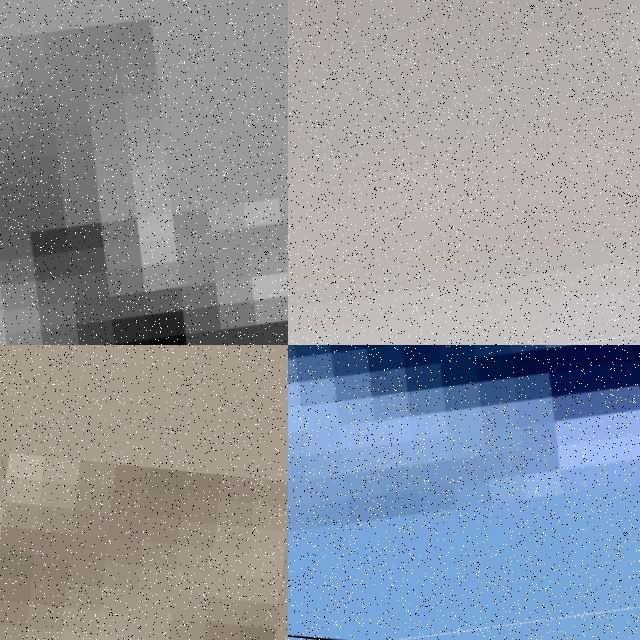drone: (288, 0, 640, 345), (288, 345, 640, 640), (0, 0, 288, 345)
